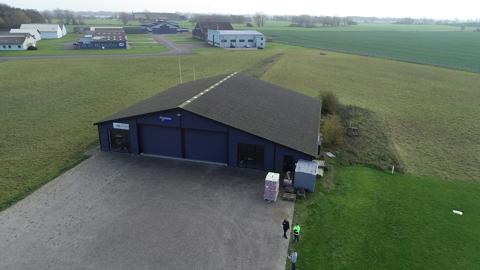RockwoolPallet: (263, 171, 281, 202)
